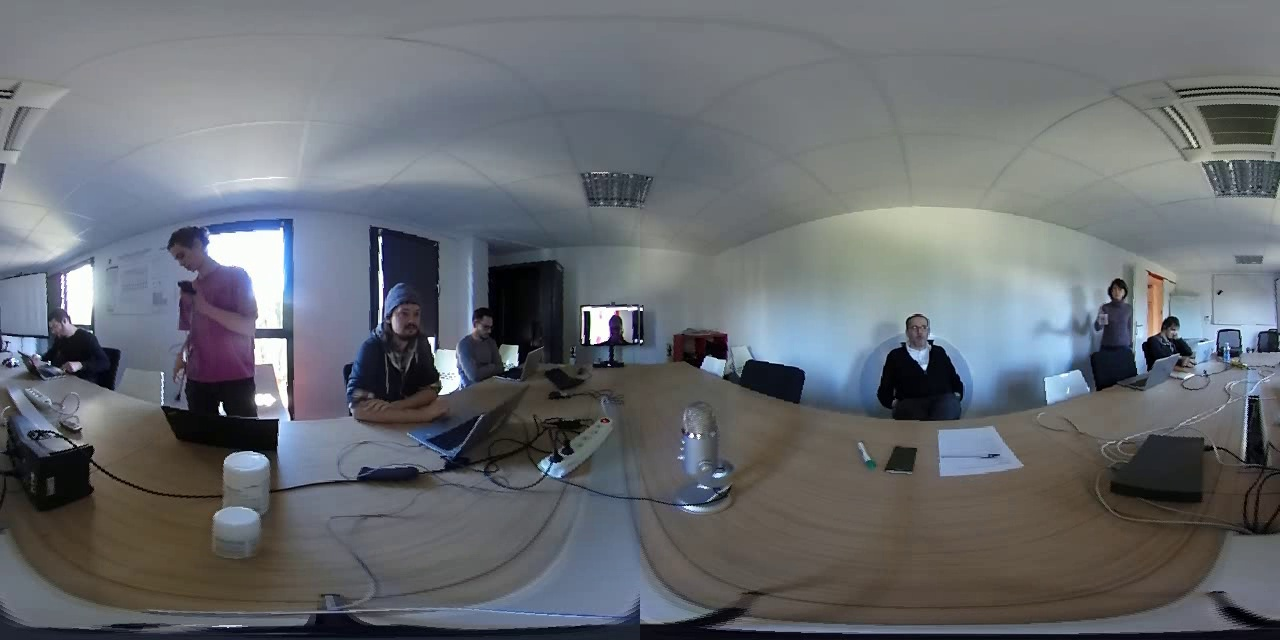person: (156, 222, 273, 412), (337, 267, 449, 421), (874, 303, 974, 422), (31, 298, 105, 388), (1085, 268, 1140, 374), (455, 303, 508, 386), (1146, 303, 1192, 367), (585, 304, 643, 341)
